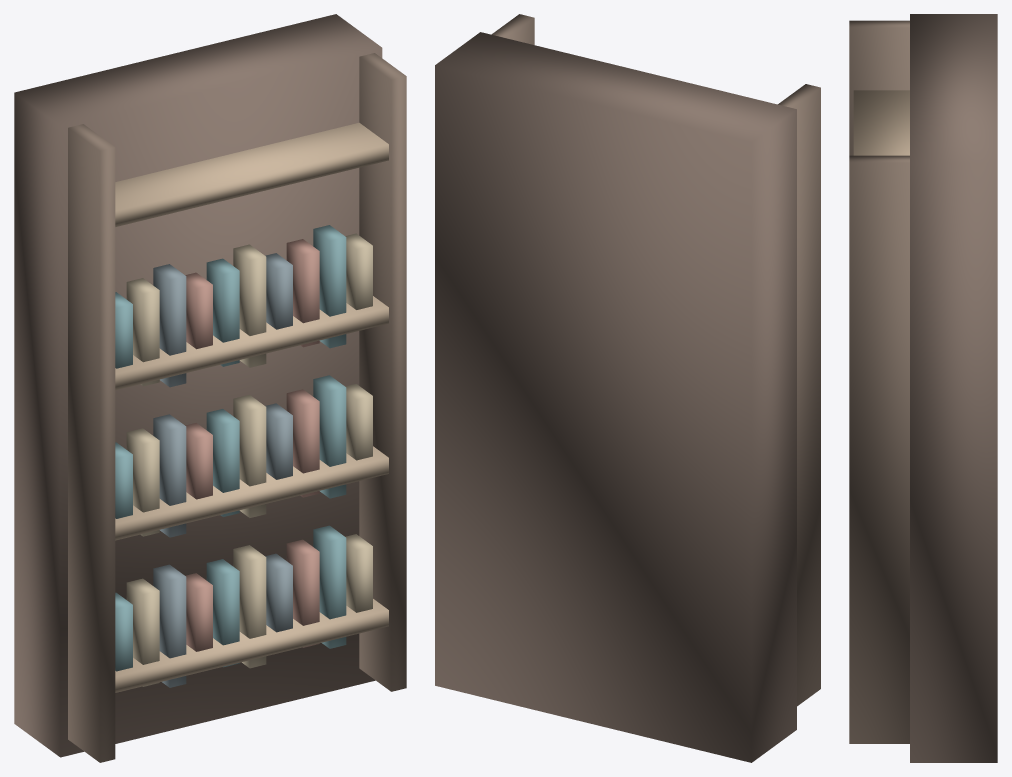
Rendered from f3a-shelf.glb.
The picture shows the model from 3 angles, left to right: view 1: azimuth 30°, elevation 25°; view 2: azimuth 150°, elevation 25°; view 3: azimuth 270°, elevation 25°; orthographic projection. The views are drawn at different scales.
Visible parts, largest first — view 1: f3a-shelf-part-000, f3a-shelf-part-006, f3a-shelf-part-007, f3a-shelf-part-005, f3a-shelf-part-002, f3a-shelf-part-004, f3a-shelf-part-003, f3a-shelf-part-020, f3a-shelf-part-010, f3a-shelf-part-013, f3a-shelf-part-023, f3a-shelf-part-026 (+25 smaller); view 2: f3a-shelf-part-000, f3a-shelf-part-006, f3a-shelf-part-007; view 3: f3a-shelf-part-000, f3a-shelf-part-007, f3a-shelf-part-006, f3a-shelf-part-005.
Part boxes in pixels (left/top/right/bottom): f3a-shelf-part-000: left=14, top=14, right=382, bottom=757; f3a-shelf-part-006: left=68, top=124, right=115, bottom=762; f3a-shelf-part-007: left=359, top=53, right=406, bottom=691; f3a-shelf-part-005: left=115, top=122, right=388, bottom=226; f3a-shelf-part-002: left=115, top=599, right=388, bottom=692; f3a-shelf-part-004: left=115, top=296, right=388, bottom=390; f3a-shelf-part-003: left=115, top=446, right=388, bottom=540; f3a-shelf-part-020: left=153, top=414, right=186, bottom=537; f3a-shelf-part-010: left=153, top=564, right=186, bottom=687; f3a-shelf-part-013: left=233, top=545, right=266, bottom=668; f3a-shelf-part-023: left=233, top=395, right=266, bottom=517; f3a-shelf-part-026: left=313, top=375, right=346, bottom=498; f3a-shelf-part-000: left=435, top=32, right=796, bottom=762; f3a-shelf-part-006: left=778, top=84, right=820, bottom=706; f3a-shelf-part-007: left=491, top=14, right=534, bottom=44; f3a-shelf-part-000: left=910, top=14, right=997, bottom=762; f3a-shelf-part-007: left=849, top=155, right=909, bottom=743; f3a-shelf-part-006: left=849, top=20, right=909, bottom=155; f3a-shelf-part-005: left=853, top=90, right=909, bottom=155.
Bounding box in the file's own units: 1.57 × 2.94 × 0.66.
